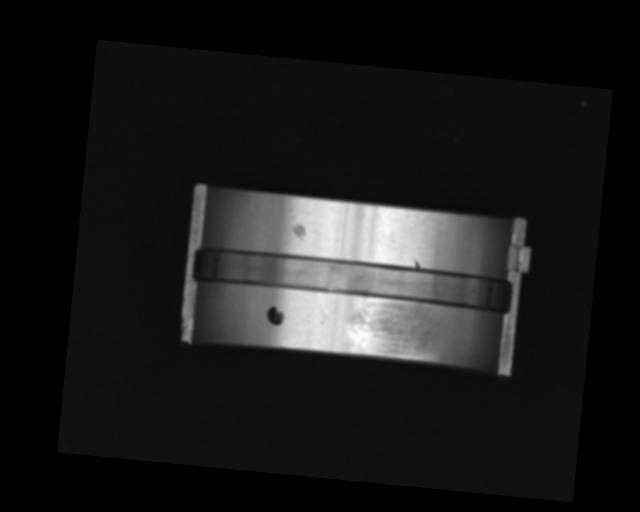blot: (265, 304, 284, 327)
bruise: (288, 221, 307, 243), (413, 257, 420, 269)
gap: (189, 246, 516, 313)
scratch: (344, 297, 442, 361)
